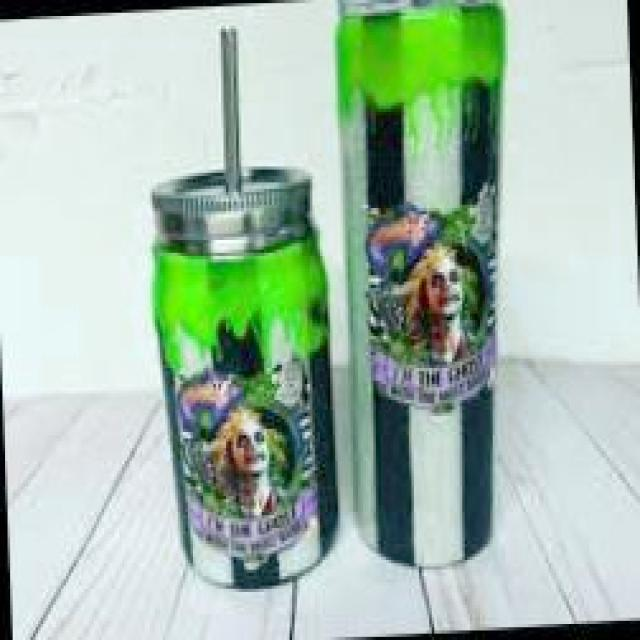bottle: (328, 0, 530, 573), (143, 155, 357, 594)
